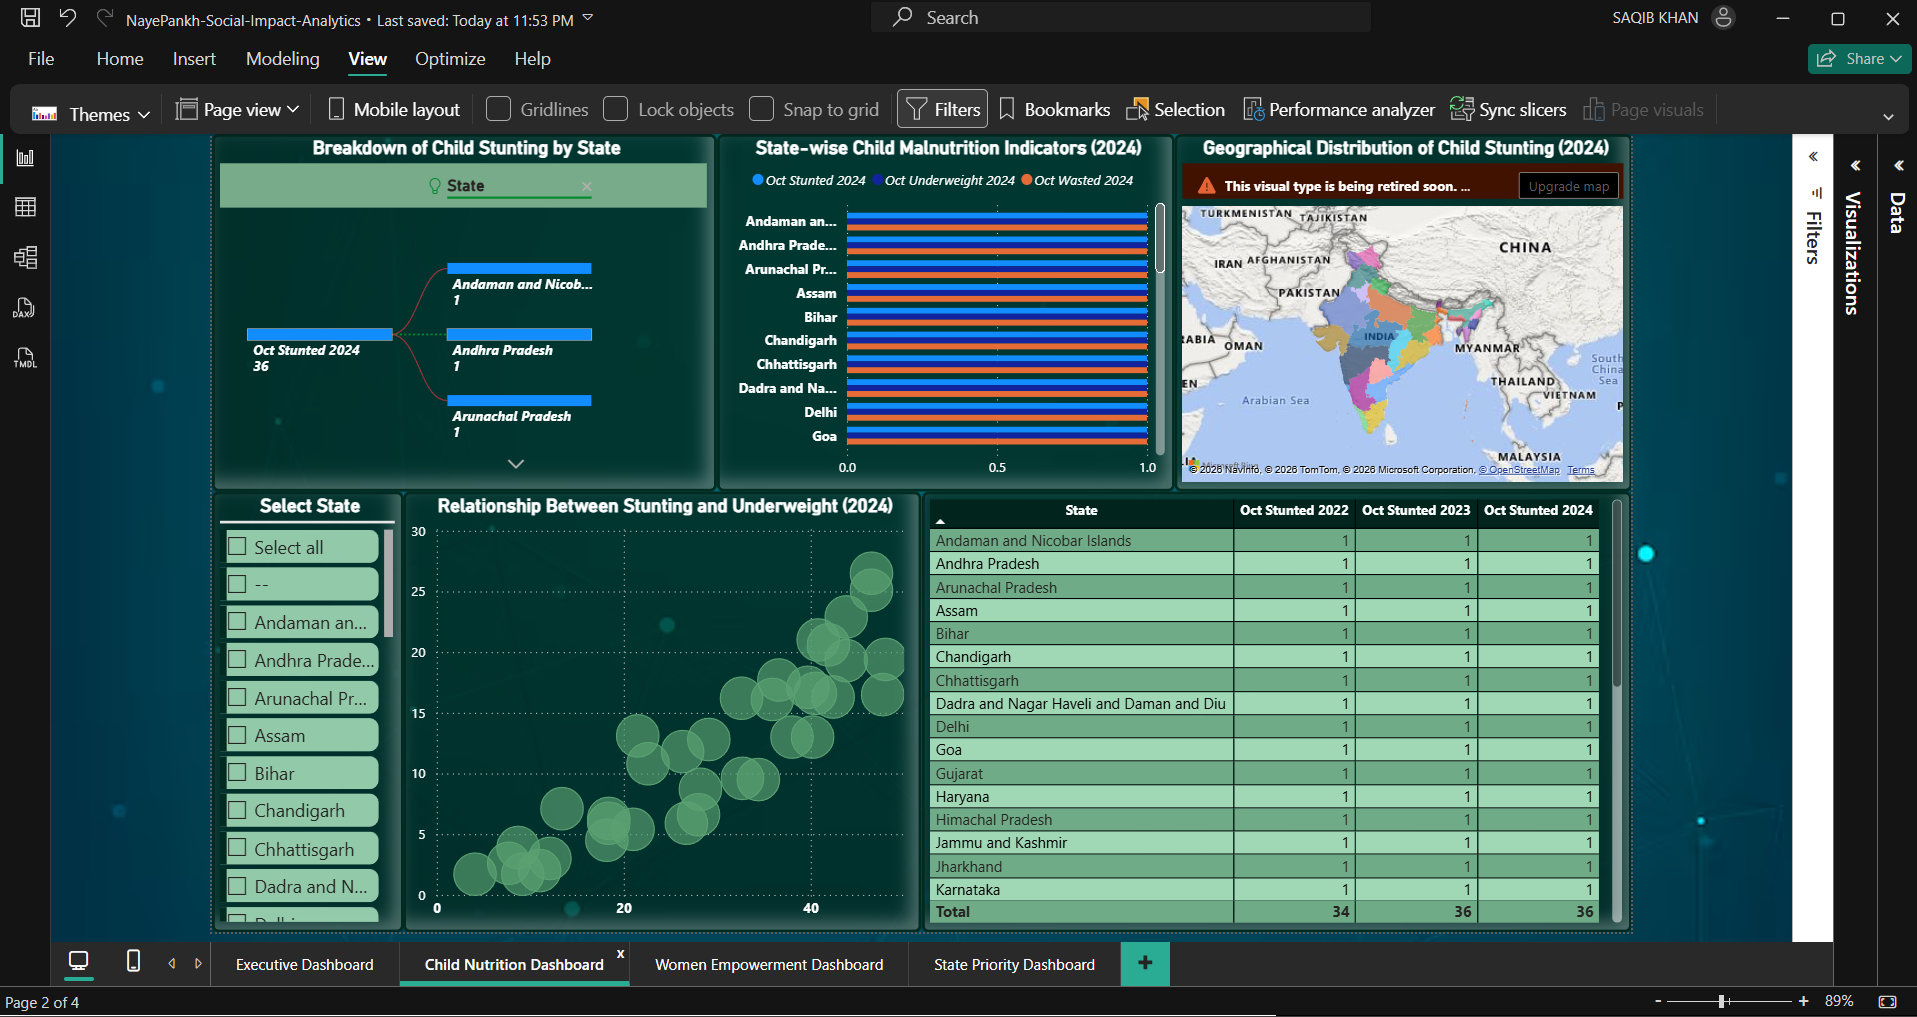

Layout of this report page (visuals, bound fields, positions):
{"tool":"powerbi","page":{"name":"Child Nutrition Dashboard","canvas":[1280,720],"ordinal":1},"visuals":[{"type":"clusteredBarChart","title":"State-wise Child Malnutrition Indicators (2024)","fields":{"Category":["Poshan.State/UT"],"Y":["CountNonNull(Poshan.October - 2024 - Stunted)","CountNonNull(Poshan.October - 2024 - Underweight)","CountNonNull(Poshan.October - 2024 - Wasted)"]},"box":[455,0,412.5,322.5],"z":0},{"type":"filledMap","title":"Geographical Distribution of Child Stunting (2024)","fields":{"Category":["Poshan.State/UT"],"Series":["Poshan.October - 2024 - Stunted"]},"box":[867.5,0,412.5,322.5],"z":1000},{"type":"pivotTable","fields":{"Rows":["Poshan.State/UT"],"Values":["Count(Poshan.October - 2022 - Stunted)","CountNonNull(Poshan.October - 2023 - Stunted)","CountNonNull(Poshan.October - 2024 - Stunted)"]},"box":[640,322.5,640,397.5],"z":2000},{"type":"scatterChart","title":"Relationship Between Stunting and Underweight (2024)","fields":{"X":["Poshan.October - 2024 - Stunted"],"Y":["Poshan.October - 2024 - Underweight"],"Size":["CountNonNull(Poshan.October - 2024 - Wasted)"]},"box":[172.5,322.5,467.5,397.5],"z":3000},{"type":"decompositionTreeVisual","title":"Breakdown of Child Stunting by State","fields":{"Analyze":["CountNonNull(Poshan.October - 2024 - Stunted)"],"ExplainBy":["Poshan.State/UT"]},"box":[0,0,455,322.5],"z":4000},{"type":"listSlicer","title":"Select State","fields":{"Values":["Poshan.State/UT"]},"box":[0,322.5,172.5,397.5],"z":5000}]}

Visuals, with their boxes on the page's 1280x720 design canvas (x1, y1, x2, y2). These are canvas units, not pixel positions in the 1917x1017 screenshot, which may show the page scaled, cropped or inside an application window:
"State-wise Child Malnutrition Indicators (2024)" clusteredBarChart: (455,0,868,322)
"Geographical Distribution of Child Stunting (2024)" filledMap: (868,0,1280,322)
pivotTable - Poshan.State/UT x Count(Poshan.October - 2022 - Stunted): (640,322,1280,720)
"Relationship Between Stunting and Underweight (2024)" scatterChart: (172,322,640,720)
"Breakdown of Child Stunting by State" decompositionTreeVisual: (0,0,455,322)
"Select State" listSlicer: (0,322,172,720)
